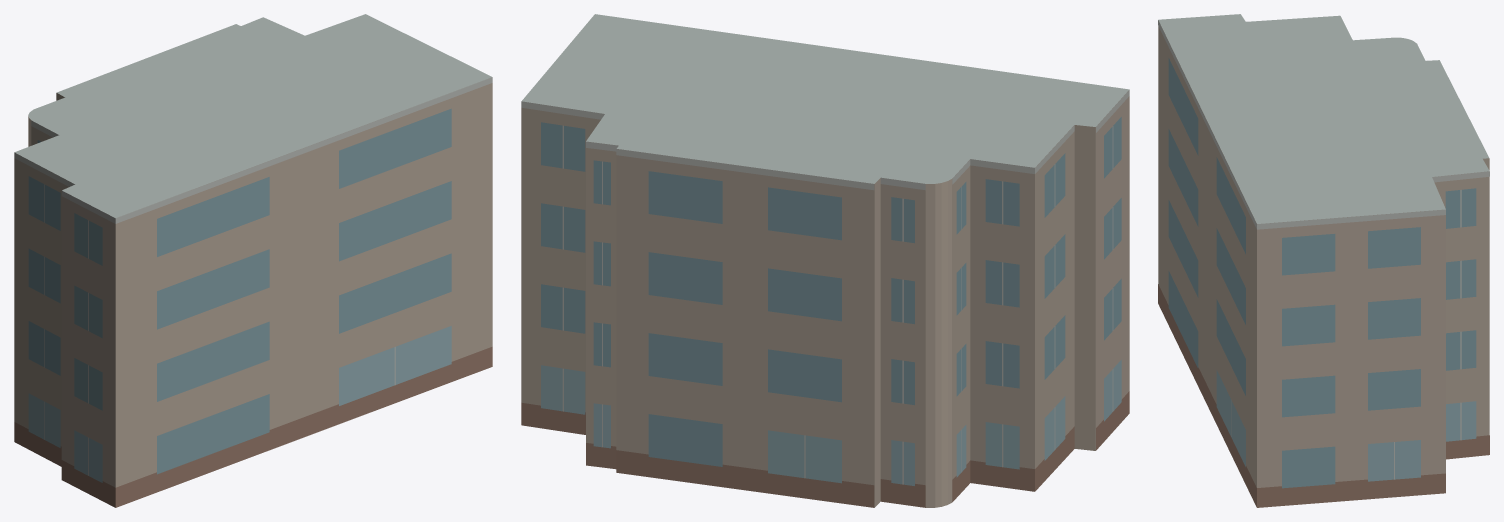
The model's file is survey-upis-32642595.glb.
3 views of the same model, side by side, from view 1: azimuth 30°, elevation 25°; view 2: azimuth 150°, elevation 25°; view 3: azimuth 270°, elevation 25° (orthographic). The views are drawn at different scales.
Visible parts, largest first — view 1: survey-upis-32642595.tmp; view 2: survey-upis-32642595.tmp; view 3: survey-upis-32642595.tmp.
Boxes of the visible parts, bbox=[...] form: survey-upis-32642595.tmp: bbox=[14, 14, 492, 507]; survey-upis-32642595.tmp: bbox=[521, 14, 1129, 507]; survey-upis-32642595.tmp: bbox=[1158, 14, 1489, 507].
Size of the model in its own units: 19.7 by 12.4 by 13.14.
